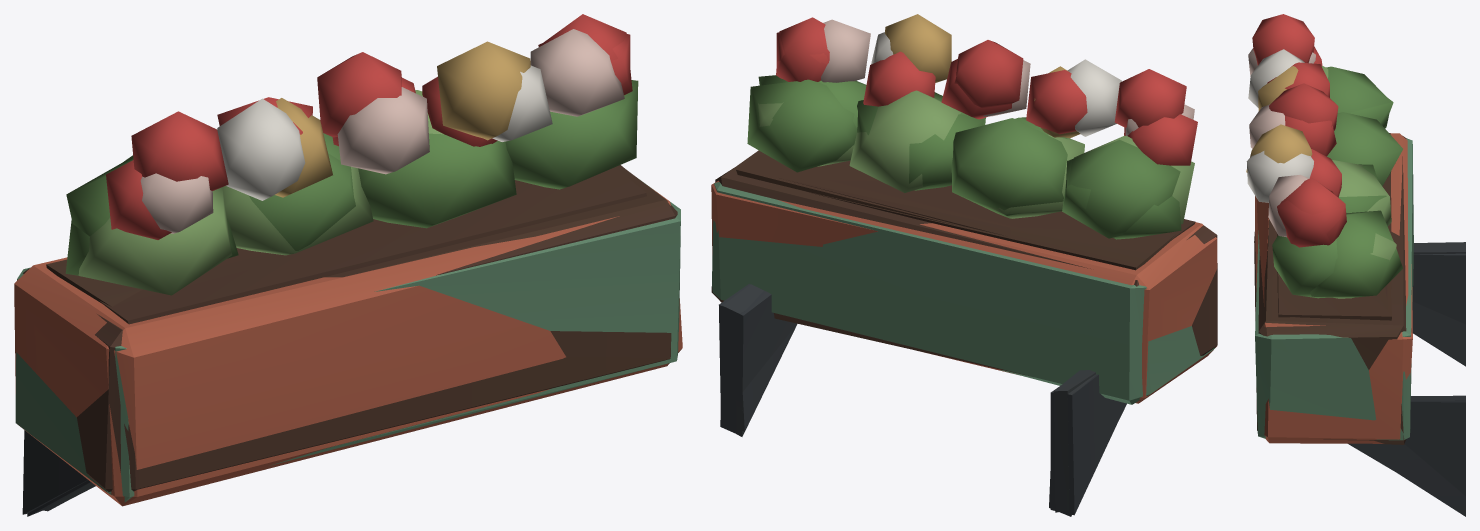
File: flowerbox.glb
3 views of the same model, side by side, from view 1: azimuth 30°, elevation 25°; view 2: azimuth 150°, elevation 25°; view 3: azimuth 270°, elevation 25° (orthographic). The views are drawn at different scales.
Visible parts, largest first — view 1: flowerbox.v2.mesh, flowerbox.v1.mesh, flowerbox.v0.mesh; view 2: flowerbox.v1.mesh, flowerbox.v2.mesh, flowerbox.v0.mesh; view 3: flowerbox.v2.mesh, flowerbox.v1.mesh, flowerbox.v0.mesh.
Part boxes in pixels (x1,y1,x2,y2): flowerbox.v2.mesh: [14, 14, 682, 511]; flowerbox.v1.mesh: [15, 29, 680, 516]; flowerbox.v0.mesh: [22, 34, 677, 514]; flowerbox.v1.mesh: [712, 19, 1214, 516]; flowerbox.v2.mesh: [711, 14, 1217, 512]; flowerbox.v0.mesh: [711, 32, 1217, 515]; flowerbox.v2.mesh: [1246, 46, 1465, 495]; flowerbox.v1.mesh: [1246, 48, 1465, 516]; flowerbox.v0.mesh: [1252, 14, 1465, 470].
Bounding box in the file's own units: 0.691 × 0.5647 × 0.3172.
